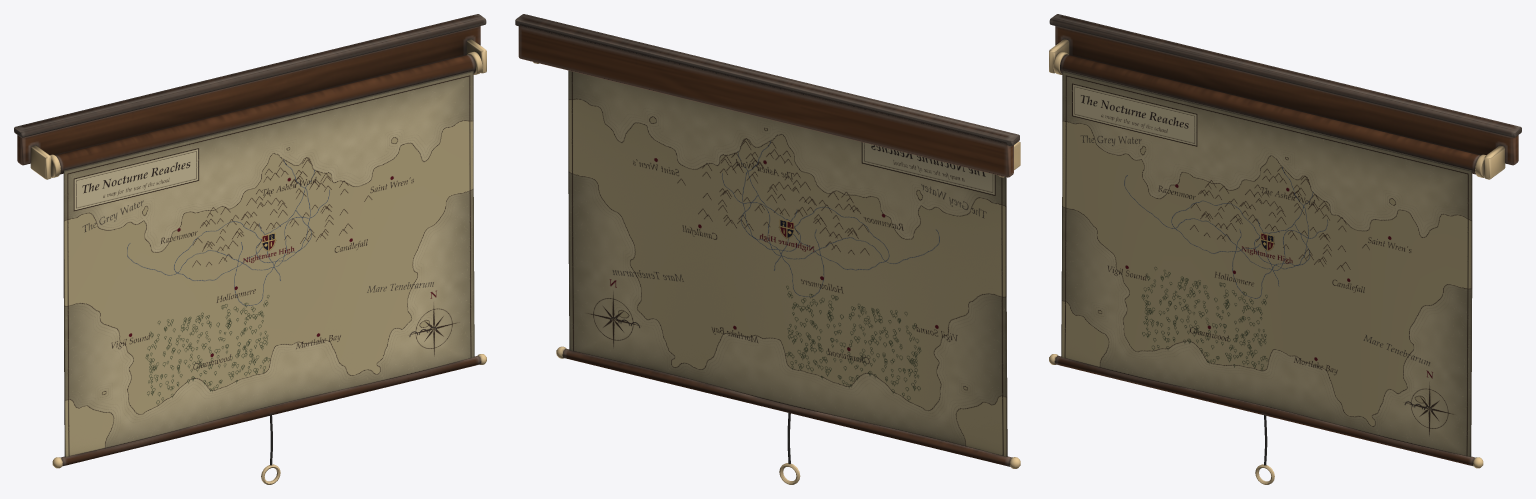
File: WallMap.fbx
The picture shows the model from 3 angles, left to right: view 1: azimuth 30°, elevation 25°; view 2: azimuth 150°, elevation 25°; view 3: azimuth 330°, elevation 25°; orthographic projection. The views are drawn at different scales.
Visible parts, largest first — view 1: WallMap; view 2: WallMap; view 3: WallMap.
Boxes of the visible parts, box(x1,y1,x2,y2) form: WallMap: box(14, 14, 486, 484); WallMap: box(515, 14, 1020, 484); WallMap: box(1049, 14, 1521, 484).
Size of the model in its own units: 466 by 379 by 45.76.
